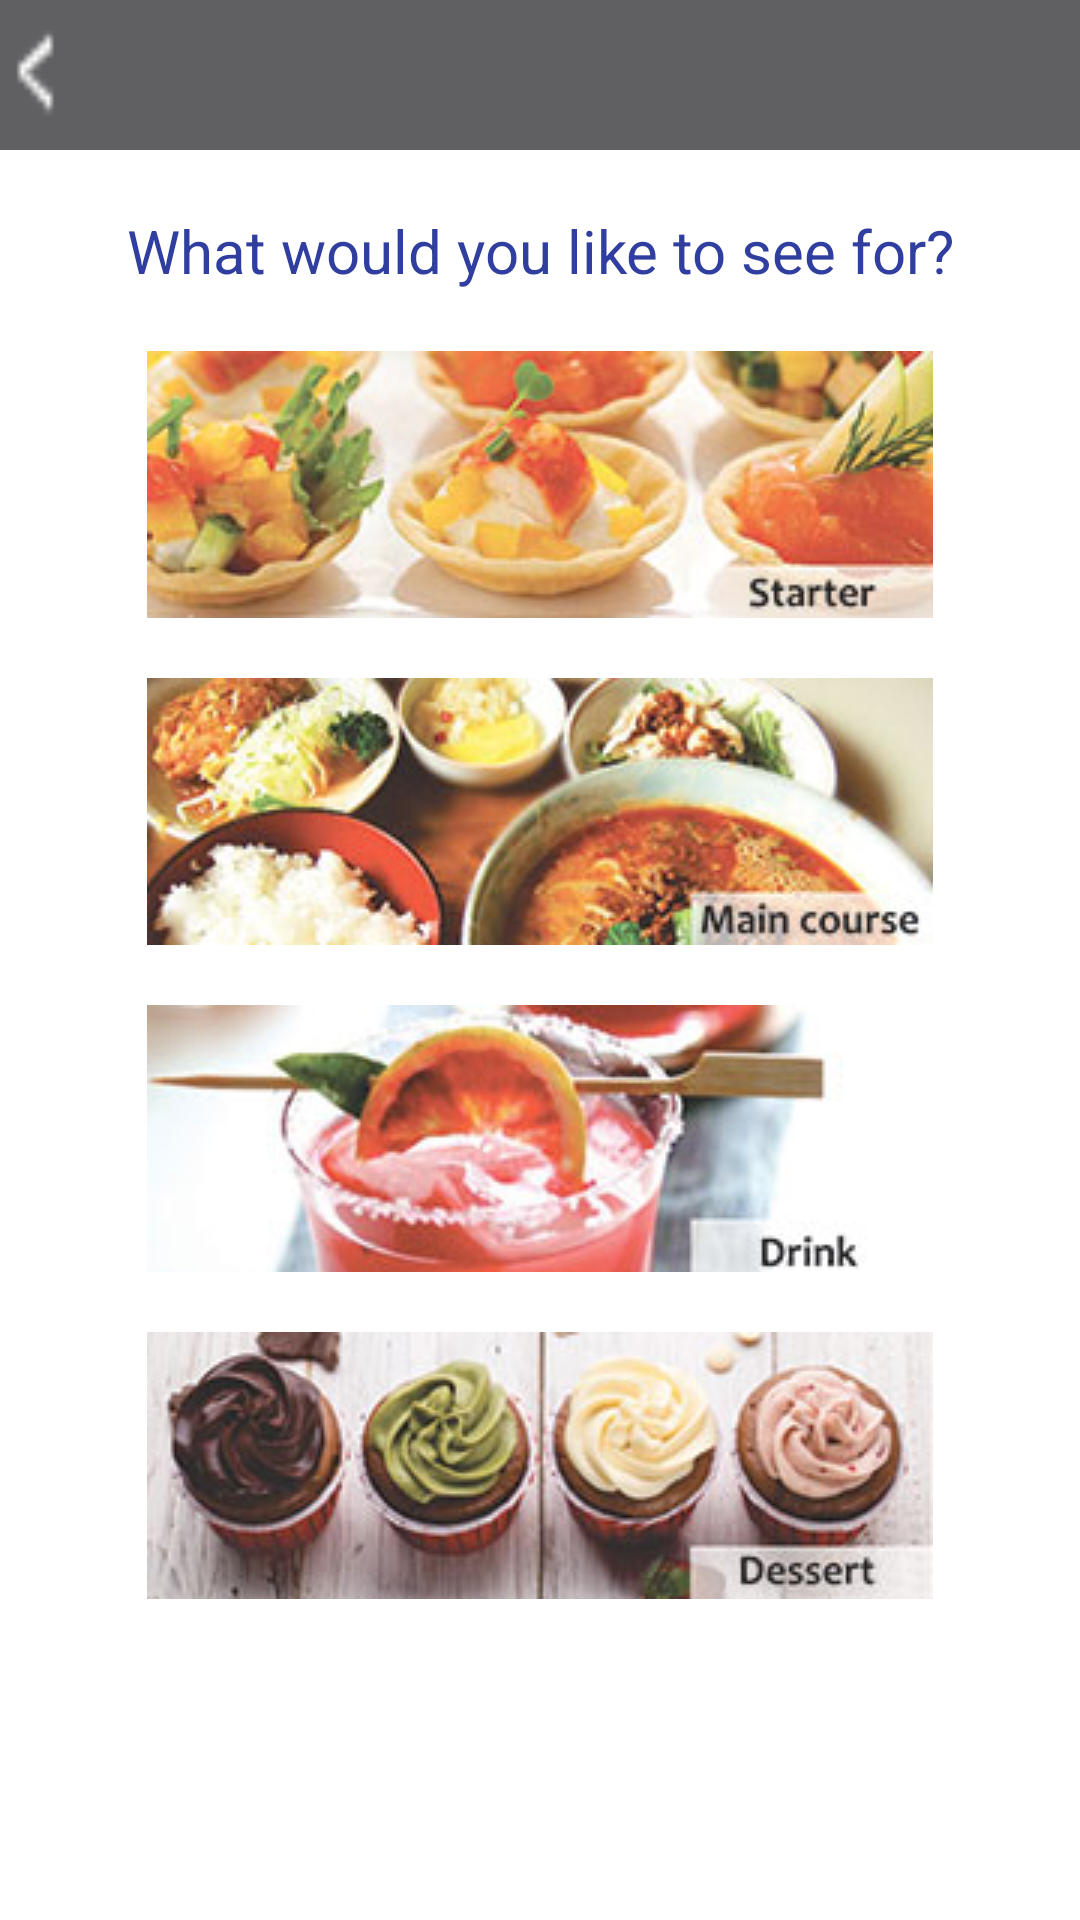

Named icons in this screenshot (1080 × 1920) and their centers, (x,y):
backicon: (35,73)
